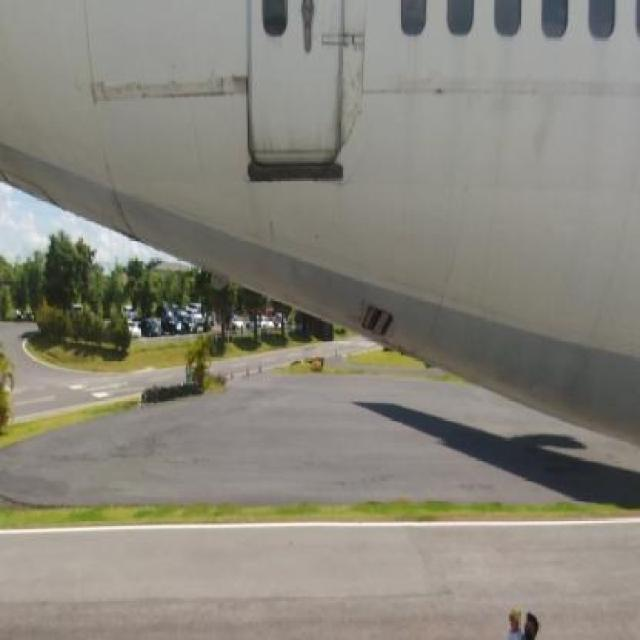Scartch: (81, 70, 250, 125), (524, 65, 568, 203), (338, 35, 370, 153)
